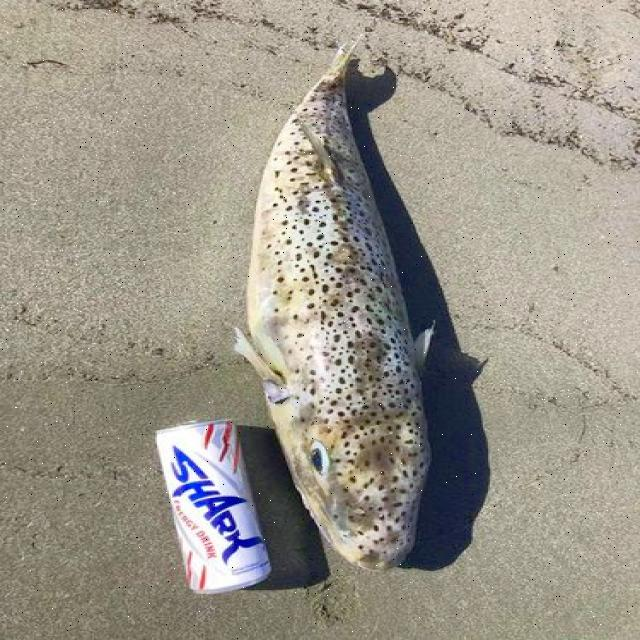Balik: (236, 48, 430, 569)
